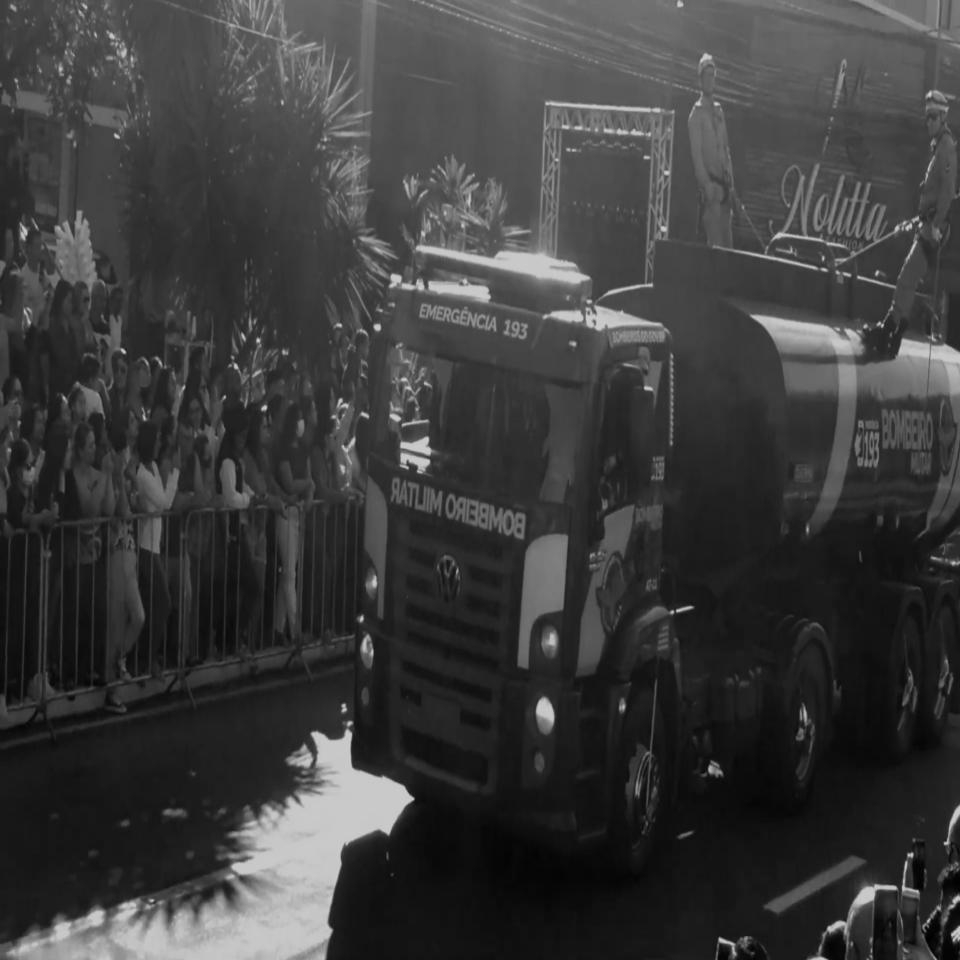bombeiro: (348, 235, 960, 882)
